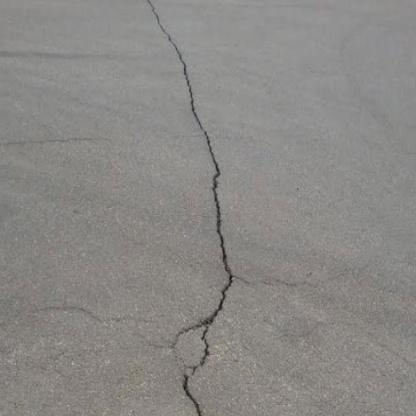Cracks: (137, 0, 252, 416)
